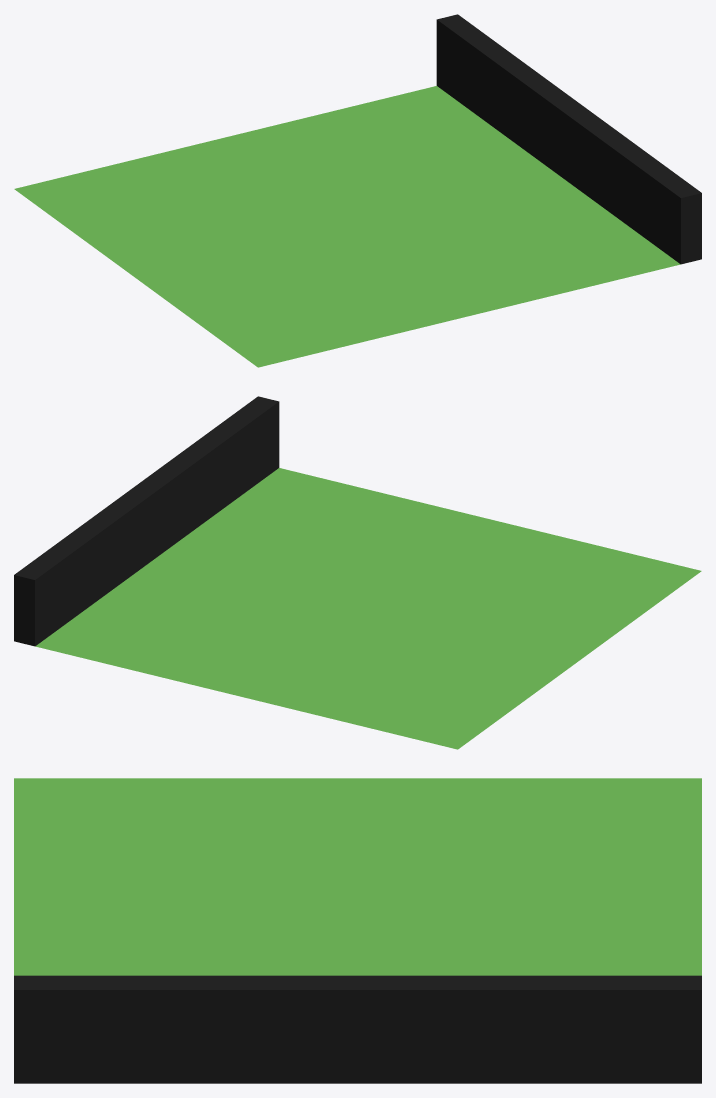
File: tile_straight_rw.fbx
3 renders of one model, top to bottom at view 1: azimuth 30°, elevation 25°; view 2: azimuth 150°, elevation 25°; view 3: azimuth 270°, elevation 25°, orthographic. The views are drawn at different scales.
Parts seen in each view (by area): view 1: T0_Straight; view 2: T0_Straight; view 3: T0_Straight.
Boxes of the visible parts, x1=… form: T0_Straight: x1=14, y1=14, x2=701, y2=367; T0_Straight: x1=14, y1=396, x2=701, y2=749; T0_Straight: x1=14, y1=778, x2=701, y2=1083.
Size of the model in its own units: 210 by 30 by 200.
